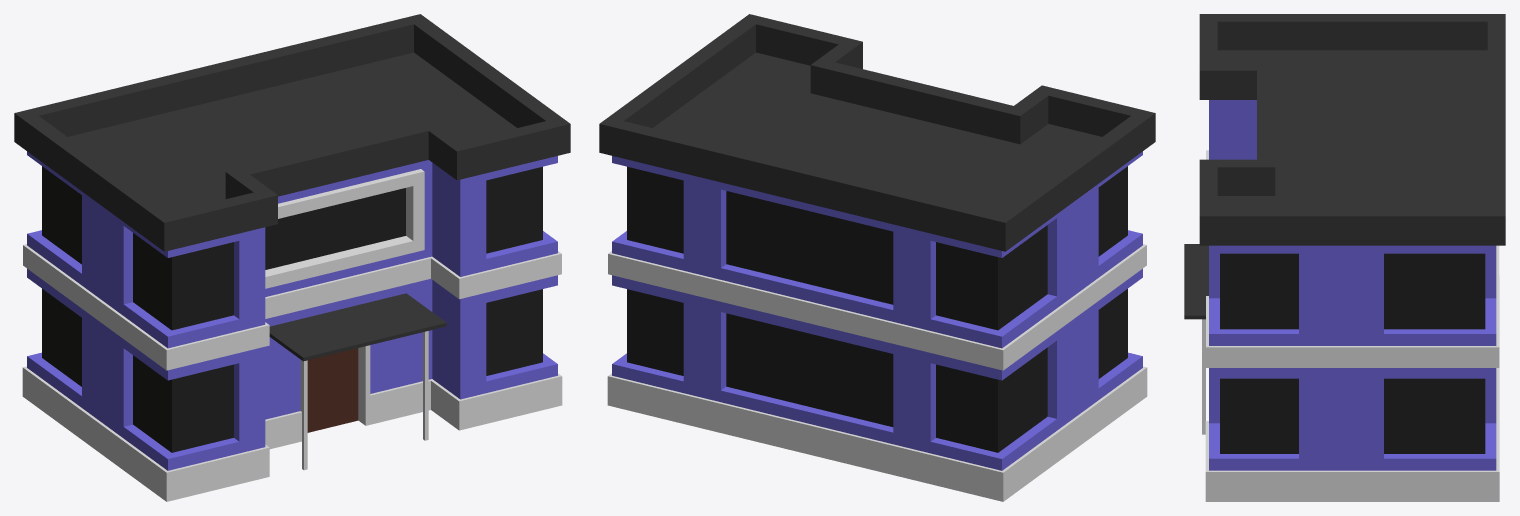
The model's file is house3_1.fbx.
3 views of the same model, side by side, from view 1: azimuth 30°, elevation 25°; view 2: azimuth 150°, elevation 25°; view 3: azimuth 270°, elevation 25° (orthographic). The views are drawn at different scales.
Parts seen in each view (by area): view 1: house3_1_Bottom, house3_1_top, house3_1_middle; view 2: house3_1_Bottom, house3_1_top, house3_1_middle; view 3: house3_1_top, house3_1_Bottom, house3_1_middle.
Boxes of the visible parts, x1,y1,x2,y2 form: house3_1_Bottom: (22,255,562,501); house3_1_top: (14,14,570,251); house3_1_middle: (23,151,561,360); house3_1_Bottom: (607,255,1147,501); house3_1_top: (599,14,1155,251); house3_1_middle: (608,151,1146,360); house3_1_top: (1199,14,1505,245); house3_1_Bottom: (1184,244,1499,501); house3_1_middle: (1206,100,1499,357).
Bounding box in the file's own units: 833 × 554 × 560.
